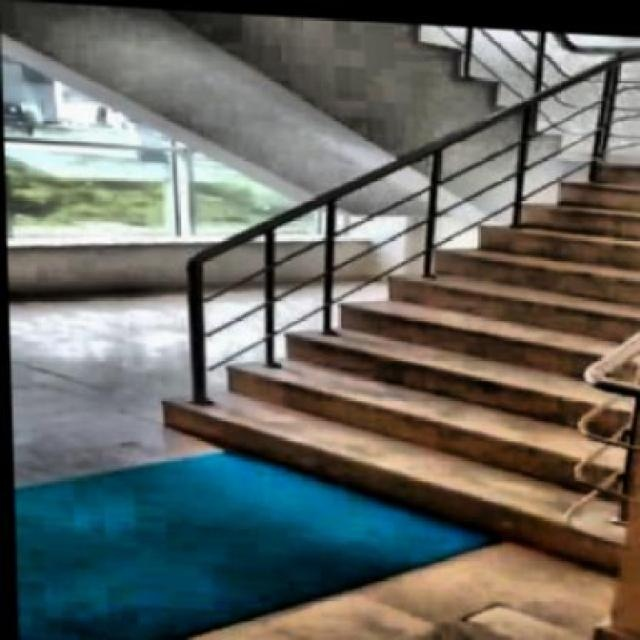stair: (154, 98, 638, 571)
